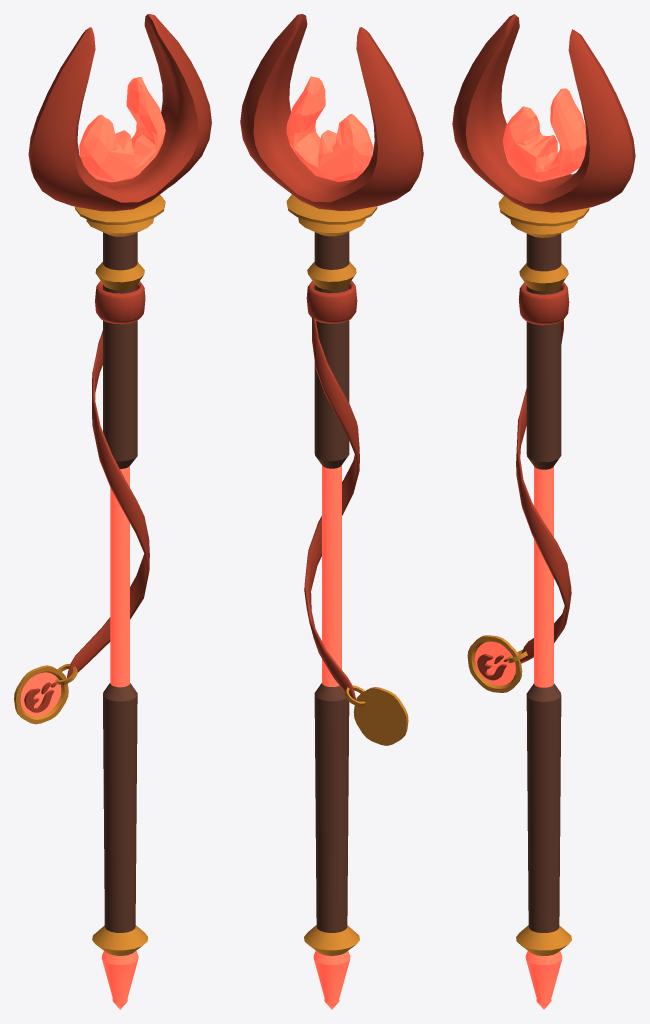
Rendered from Fire staff.fbx.
3 views of the same model, side by side, from view 1: azimuth 30°, elevation 25°; view 2: azimuth 150°, elevation 25°; view 3: azimuth 330°, elevation 25° (orthographic).
Parts seen in each view (by area): view 1: Fire staff, Fire staff_top, Fire staff_crystal, Fire_Ribbon 2, keychain_fire, Fire_Ribbon, fire icon; view 2: Fire staff, Fire staff_top, Fire staff_crystal, Fire_Ribbon 2, keychain_fire, Fire_Ribbon; view 3: Fire staff, Fire staff_top, Fire staff_crystal, Fire_Ribbon 2, keychain_fire, Fire_Ribbon, fire icon.
Part boxes in pixels (box(x1,y1,x2,y2)): Fire staff: box(74, 195, 165, 1009); Fire staff_top: box(28, 14, 211, 211); Fire staff_crystal: box(79, 77, 165, 182); Fire_Ribbon 2: box(67, 330, 149, 677); keychain_fire: box(14, 664, 77, 724); Fire_Ribbon: box(95, 281, 145, 324); fire icon: box(24, 682, 56, 712); Fire staff: box(286, 194, 377, 1009); Fire staff_top: box(240, 14, 423, 210); Fire staff_crystal: box(286, 76, 373, 181); Fire_Ribbon 2: box(304, 317, 359, 699); keychain_fire: box(344, 685, 408, 745); Fire_Ribbon: box(306, 280, 357, 323); Fire staff: box(498, 196, 589, 1009); Fire staff_top: box(452, 14, 635, 212); Fire staff_crystal: box(502, 88, 586, 181); Fire_Ribbon 2: box(516, 319, 571, 663); keychain_fire: box(467, 635, 527, 692); Fire_Ribbon: box(518, 282, 569, 325); fire icon: box(477, 654, 507, 680).
Bounding box in the file's own units: 0.4077 × 2.14 × 0.1652.
